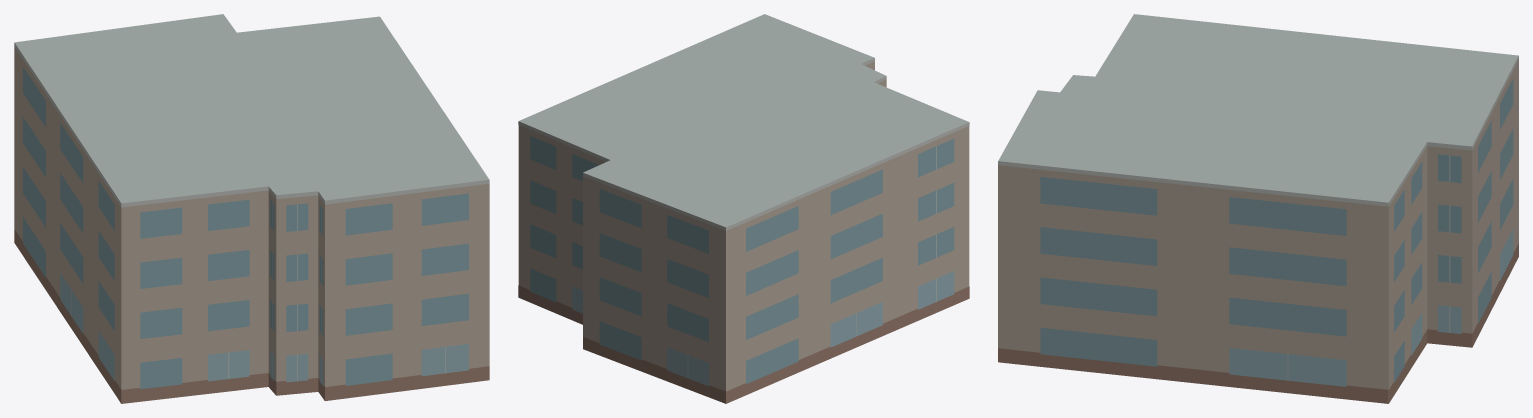
The model's file is survey-upis-32872340.glb.
3 views of the same model, side by side, from view 1: azimuth 30°, elevation 25°; view 2: azimuth 150°, elevation 25°; view 3: azimuth 270°, elevation 25° (orthographic). The views are drawn at different scales.
Visible parts, largest first — view 1: survey-upis-32872340.tmp; view 2: survey-upis-32872340.tmp; view 3: survey-upis-32872340.tmp.
Part boxes in pixels (x1,y1,x2,y2): survey-upis-32872340.tmp: (14,14,489,403); survey-upis-32872340.tmp: (518,14,969,403); survey-upis-32872340.tmp: (998,14,1518,403).
Bounding box in the file's own units: 24.56 × 12.2 × 28.63.
